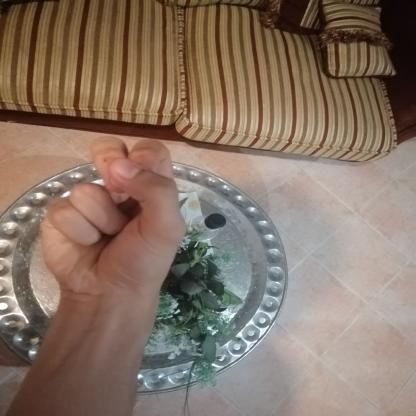QAAF: (22, 127, 206, 310)
